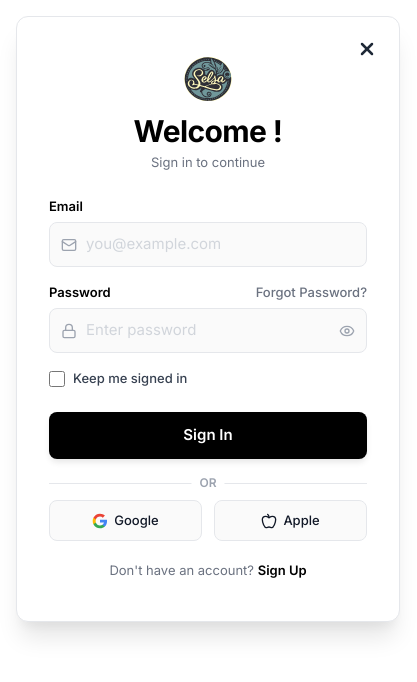
Scenario: Authentication Integration Tests › Login Flow › validates email format
Step 1. Type "invalid-email" into the field labelled "Email" → (208, 245), box [49,222,367,267]
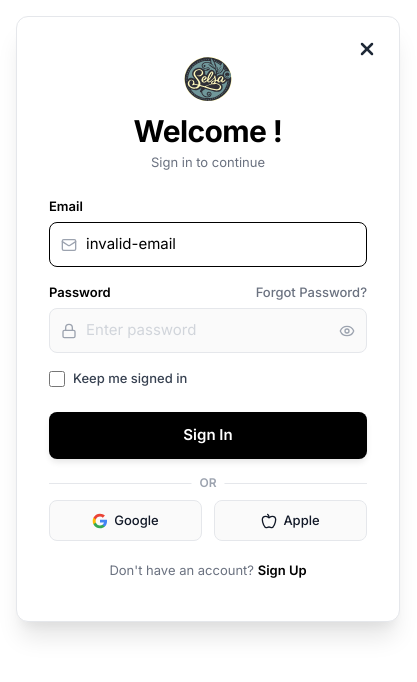
Step 2. Click the button "Sign In" → (208, 436), box [49,412,367,459]
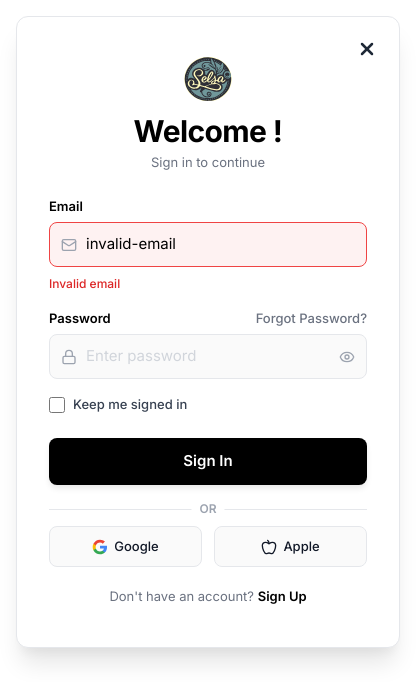
Check: the text "Invalid email" is shown, box [49,276,120,291]
